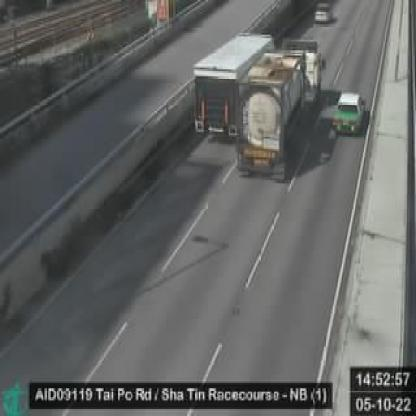Car: (332, 90, 364, 135), (313, 3, 333, 24)
Truck: (239, 40, 324, 175), (192, 35, 272, 134)
